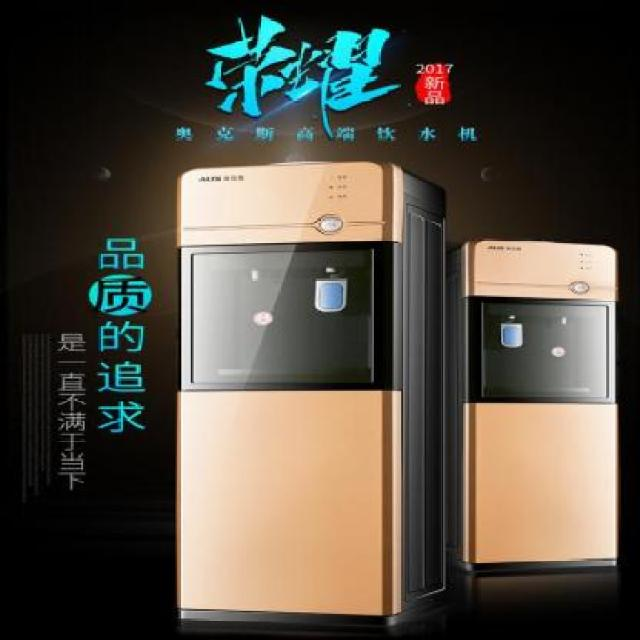cooler: (170, 154, 446, 636), (445, 234, 622, 581)
